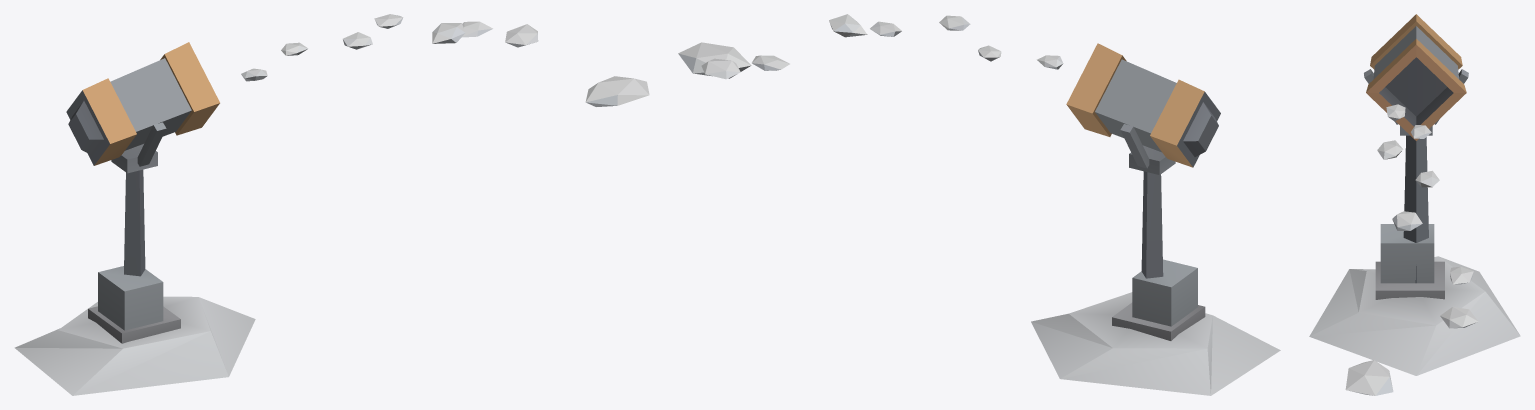
The model's file is cannon.lod2.glb.
3 renders of one model, left to right at view 1: azimuth 30°, elevation 25°; view 2: azimuth 150°, elevation 25°; view 3: azimuth 270°, elevation 25°, orthographic.
Size of the model in its own units: 8.48 by 4.05 by 2.6.
